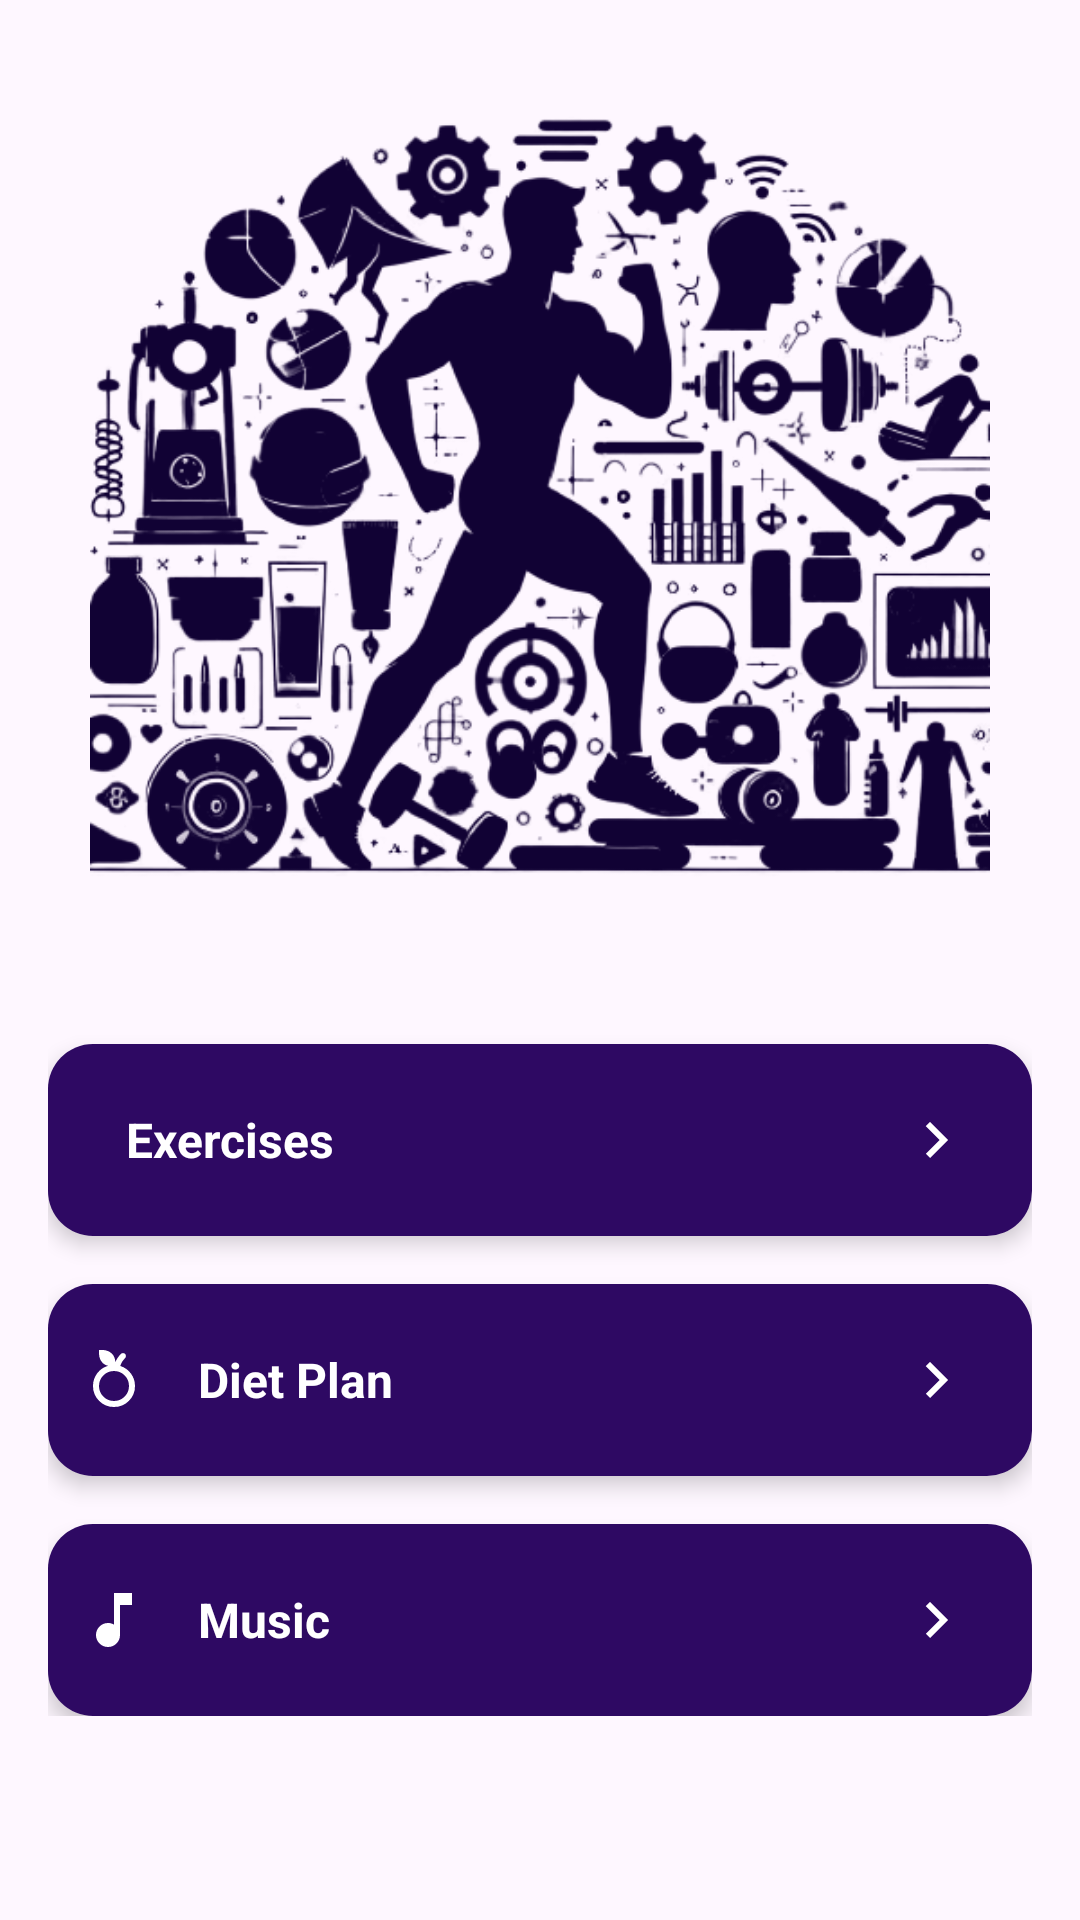

Icon bounding boxes for this 1080 x 1920 phone screenshot, format (x1, y1, x2, y2):
right arrow: (926, 1122, 948, 1158), (926, 1362, 948, 1398), (926, 1602, 948, 1638)
